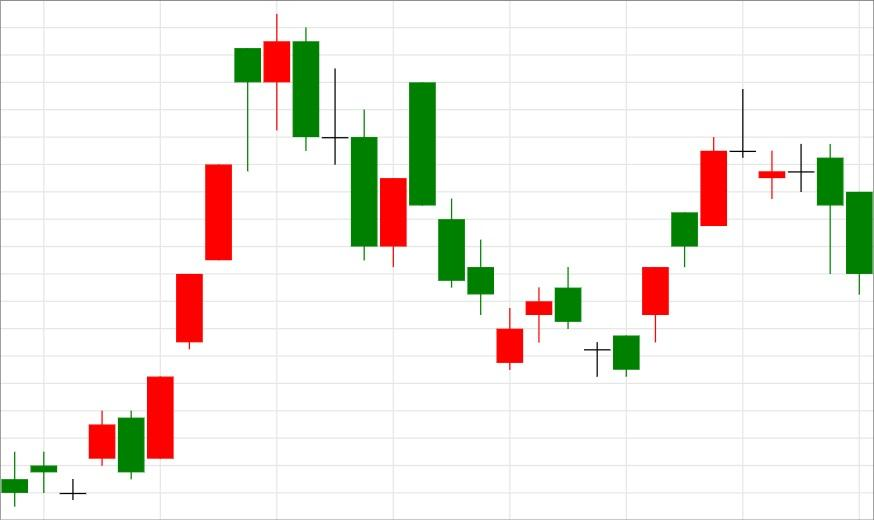hanging_man_fall: (117, 47, 263, 479)
